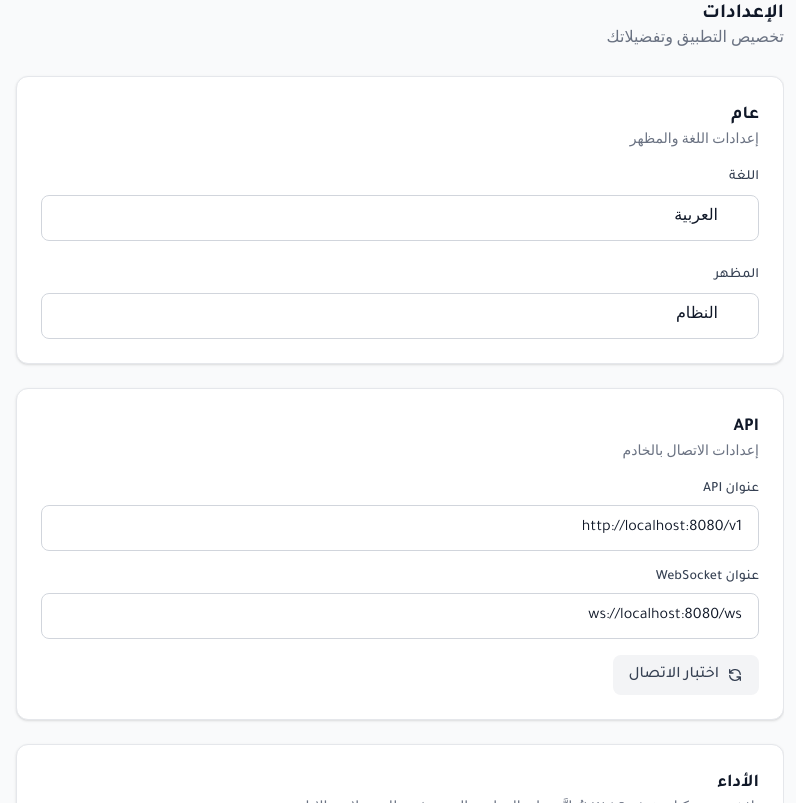
Test: SettingsTab › testConnection shows success and error states
This screenshot has width=796, height=803.
What coordinates should you click on to do the following:
click the button "اختبار الاتصال"
I would click on:
 (686, 675)
Its box is [612,655,759,695].
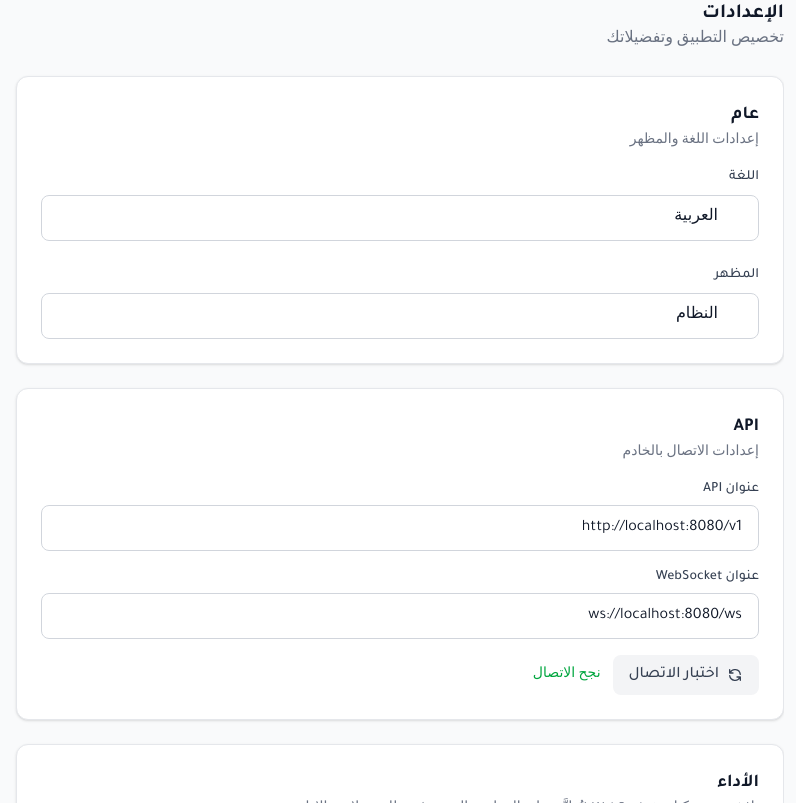
Expected: the text "نجح الاتصال" is shown, [533,665,600,685]
